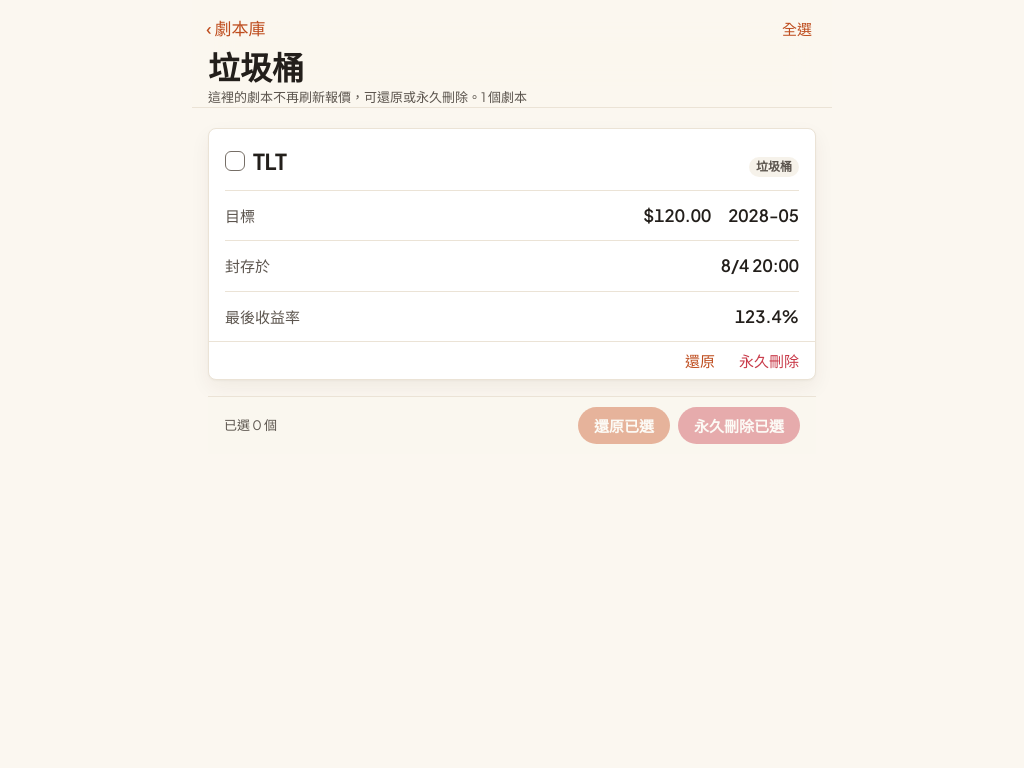
單筆永久刪除與二次確認（TR4／#92） › 點永久刪除先出現確認畫面，列出具體 ticker 與 target month，還不會呼叫刪除
expect the text "TLT" is shown: met, box [253,145,287,178]
Click the button with aria-label "永久刪除 TLT 2028-05": (769, 361) [735,342,803,379]
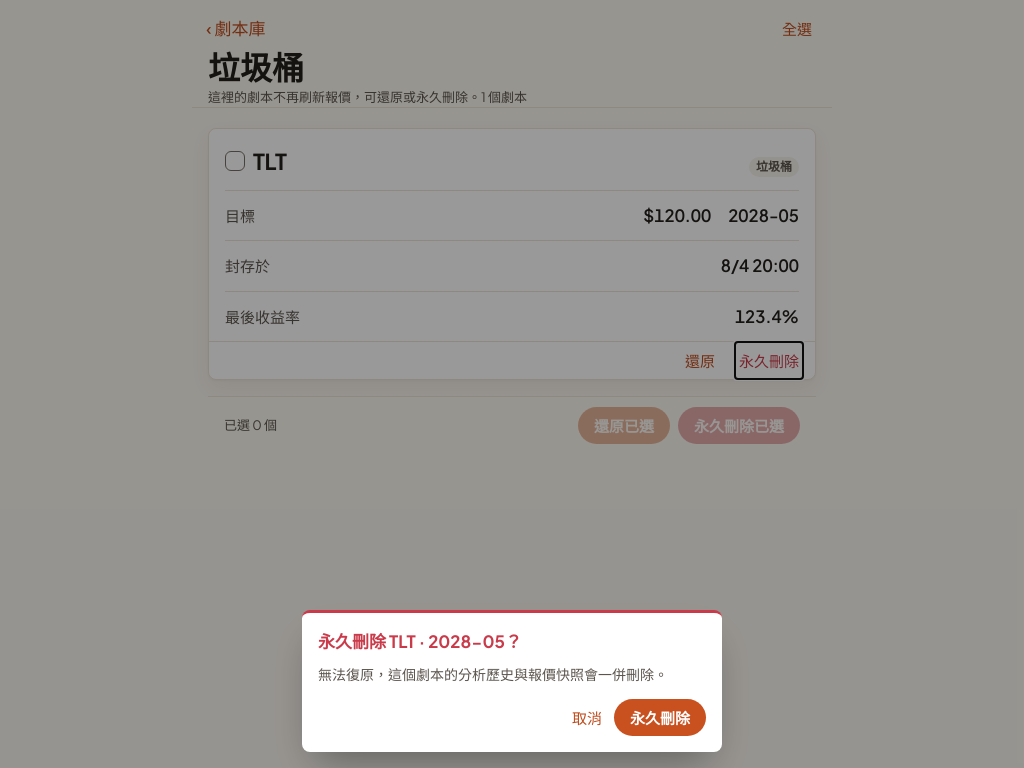
expect the dialog shows "TLT": met, box [389,630,416,652]
expect the dialog shows "2028-05": met, box [428,630,505,652]
